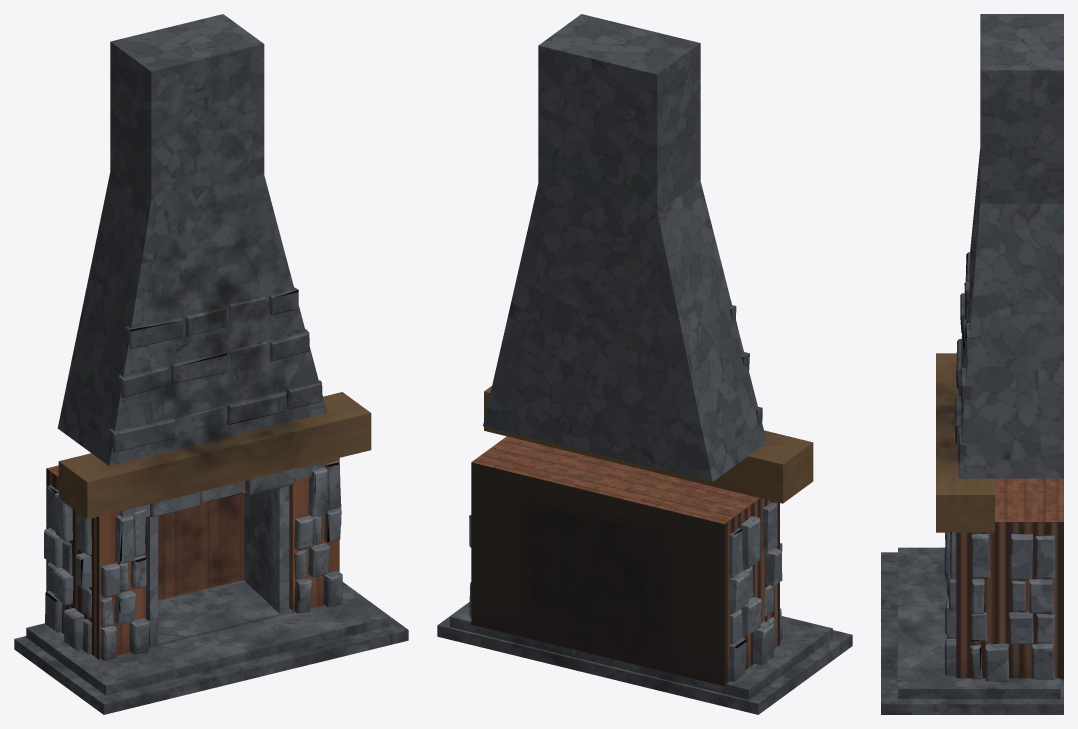
The model's file is fireplace.glb.
3 views of the same model, side by side, from view 1: azimuth 30°, elevation 25°; view 2: azimuth 150°, elevation 25°; view 3: azimuth 270°, elevation 25° (orthographic). The views are drawn at different scales.
Parts seen in each view (by area): view 1: FireplaceWeb; view 2: FireplaceWeb; view 3: FireplaceWeb.
Boxes of the visible parts, x1,y1,x2,y2 form: FireplaceWeb: (14,14,408,714); FireplaceWeb: (437,14,852,714); FireplaceWeb: (881,14,1063,714).
Size of the model in its own units: 2.32 by 4.25 by 1.18.
Materials: 1 (1 with a texture image).
